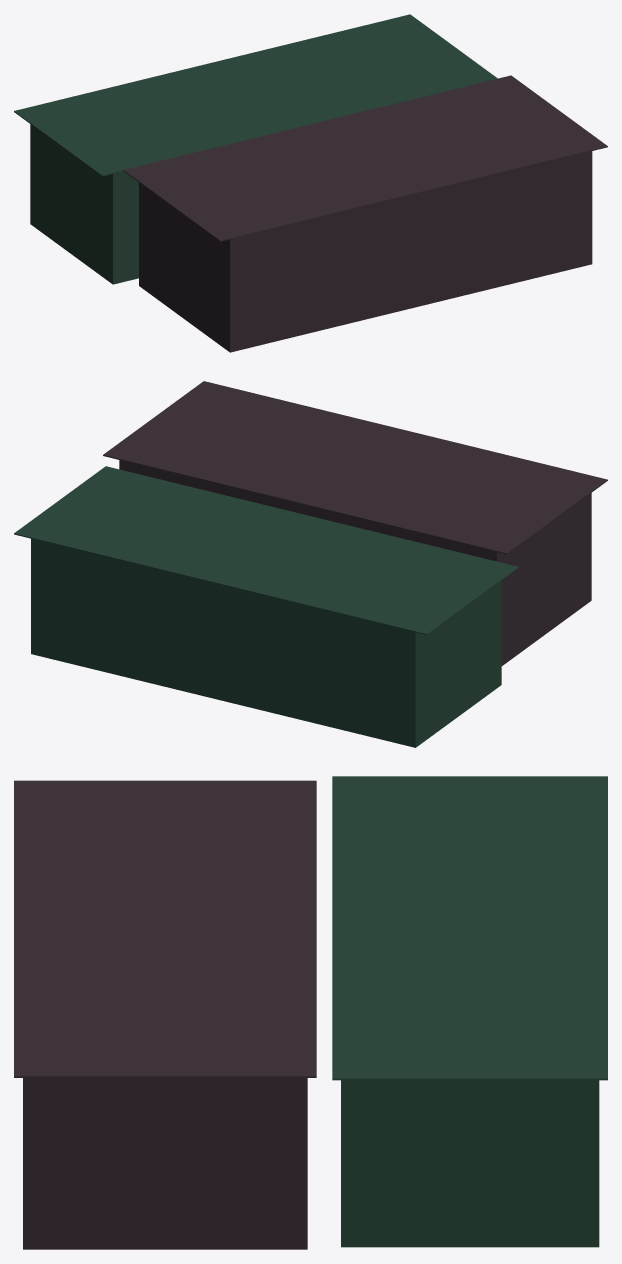
3 renders of one model, top to bottom at view 1: azimuth 30°, elevation 25°; view 2: azimuth 150°, elevation 25°; view 3: azimuth 270°, elevation 25°, orthographic. The views are drawn at different scales.
Visible parts, largest first — view 1: walls, walls.001; view 2: walls.001, walls; view 3: walls, walls.001.
Boxes of the visible parts, bbox=[...] form: walls: bbox=[123, 75, 607, 352]; walls.001: bbox=[14, 14, 497, 284]; walls.001: bbox=[14, 466, 518, 747]; walls: bbox=[103, 381, 607, 665]; walls: bbox=[14, 780, 316, 1249]; walls.001: bbox=[332, 776, 607, 1247].
Bounding box in the file's own units: 4.83 × 1.37 × 3.93.
